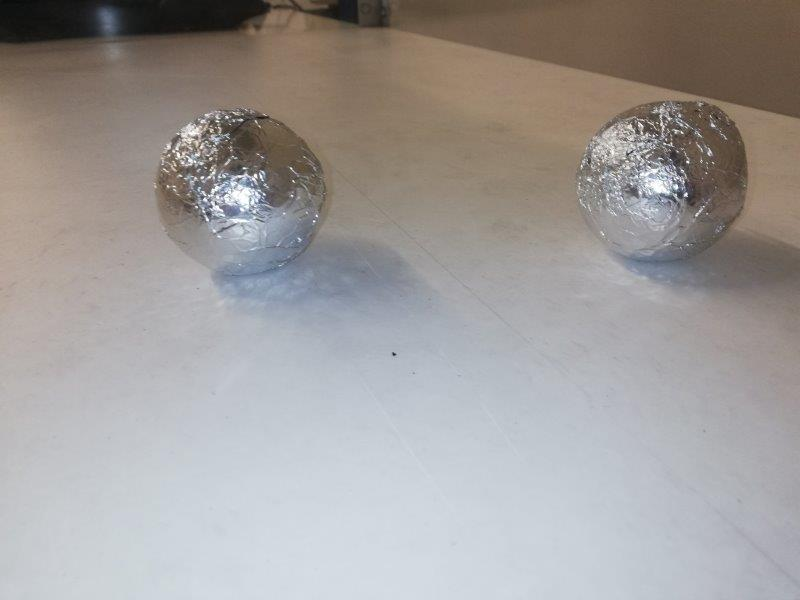bianca: (153, 109, 328, 279), (578, 98, 749, 264)
